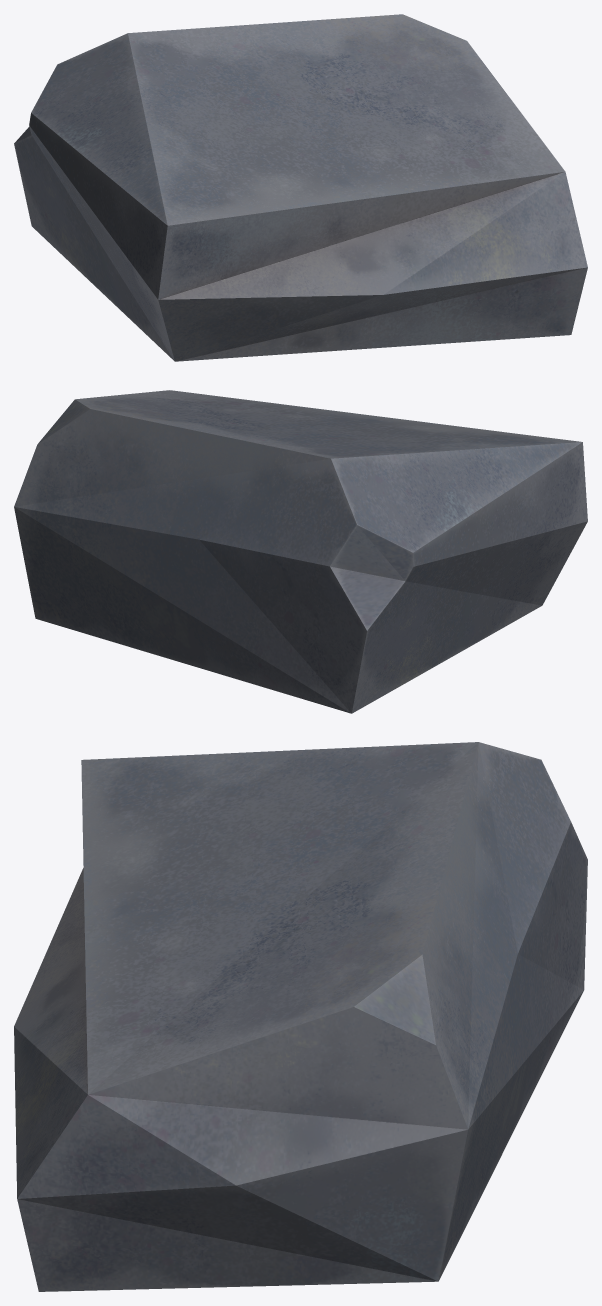
File: stylized_rock_08.fbx
The picture shows the model from 3 angles, top to bottom: view 1: azimuth 30°, elevation 25°; view 2: azimuth 150°, elevation 25°; view 3: azimuth 270°, elevation 25°; orthographic projection. The views are drawn at different scales.
Parts seen in each view (by area): view 1: stylized_rock_08; view 2: stylized_rock_08; view 3: stylized_rock_08.
Boxes of the visible parts, box(x1,y1,x2,y2) form: stylized_rock_08: box(14, 14, 587, 361); stylized_rock_08: box(14, 390, 587, 713); stylized_rock_08: box(14, 742, 587, 1291).
Size of the model in its own units: 71.02 by 39.34 by 57.47.
